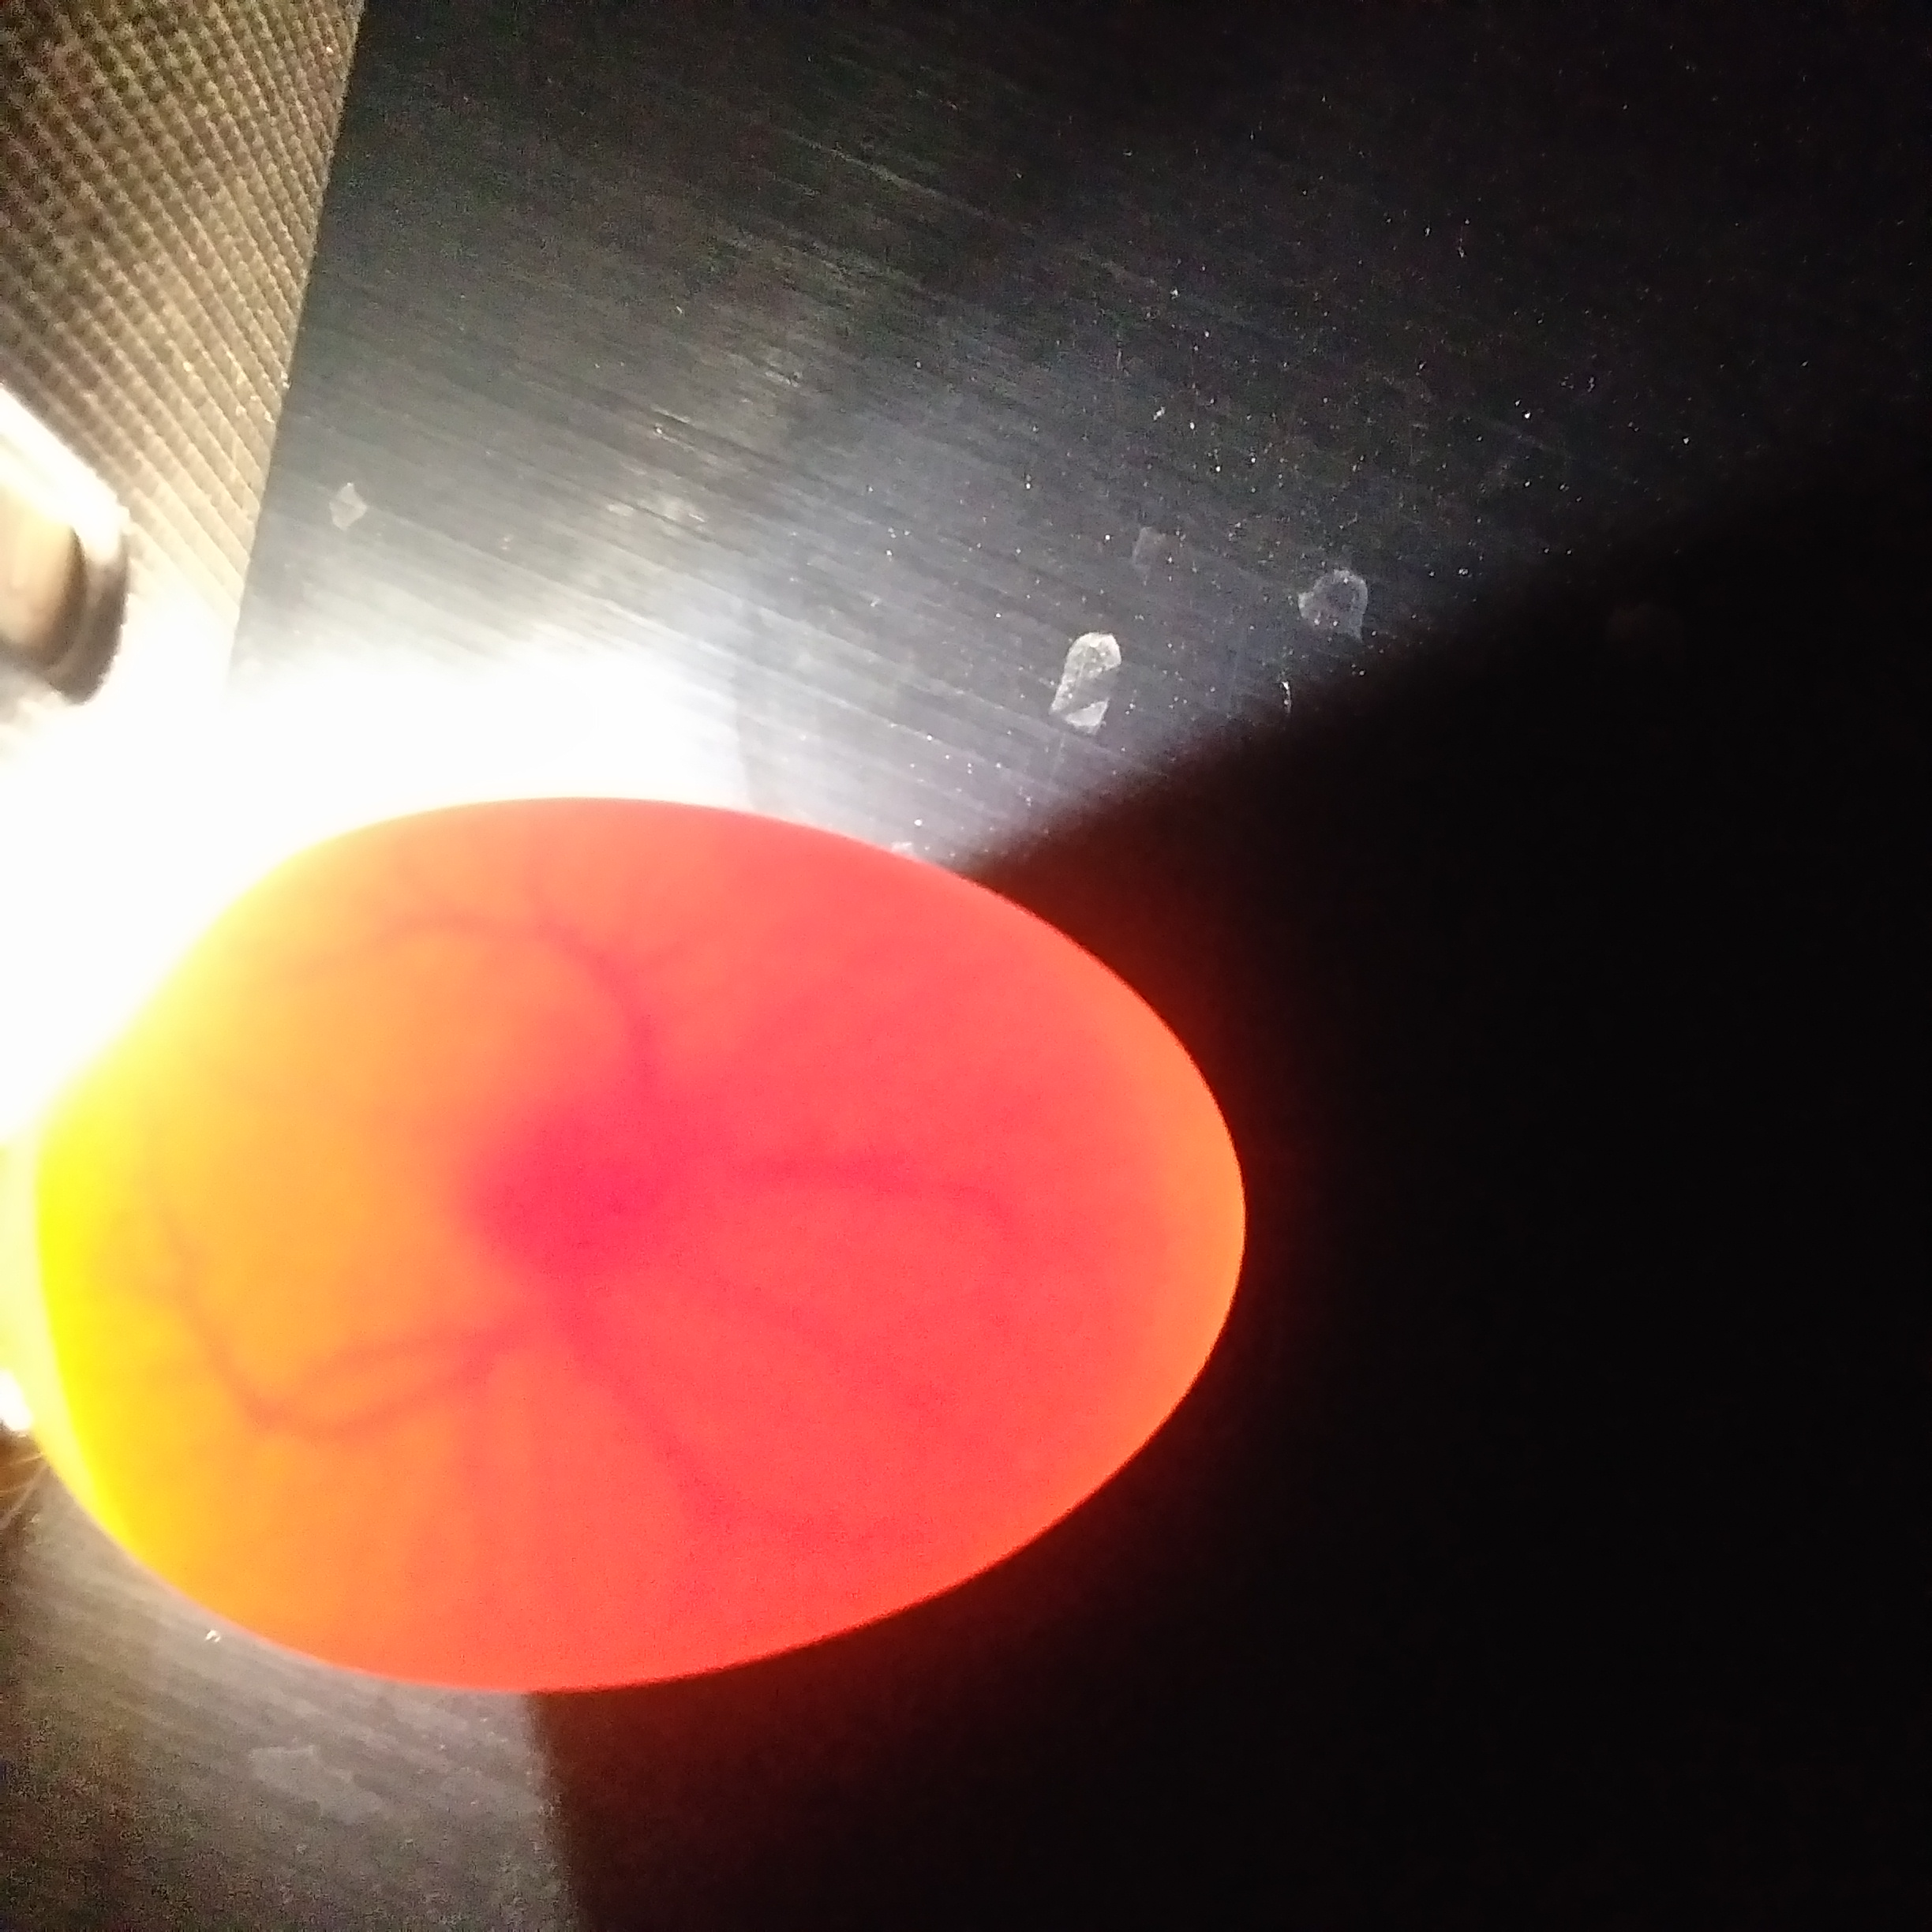bloodcell: (759, 1141, 1070, 1477), (127, 1185, 456, 1497)
embryo: (471, 1077, 694, 1288)
